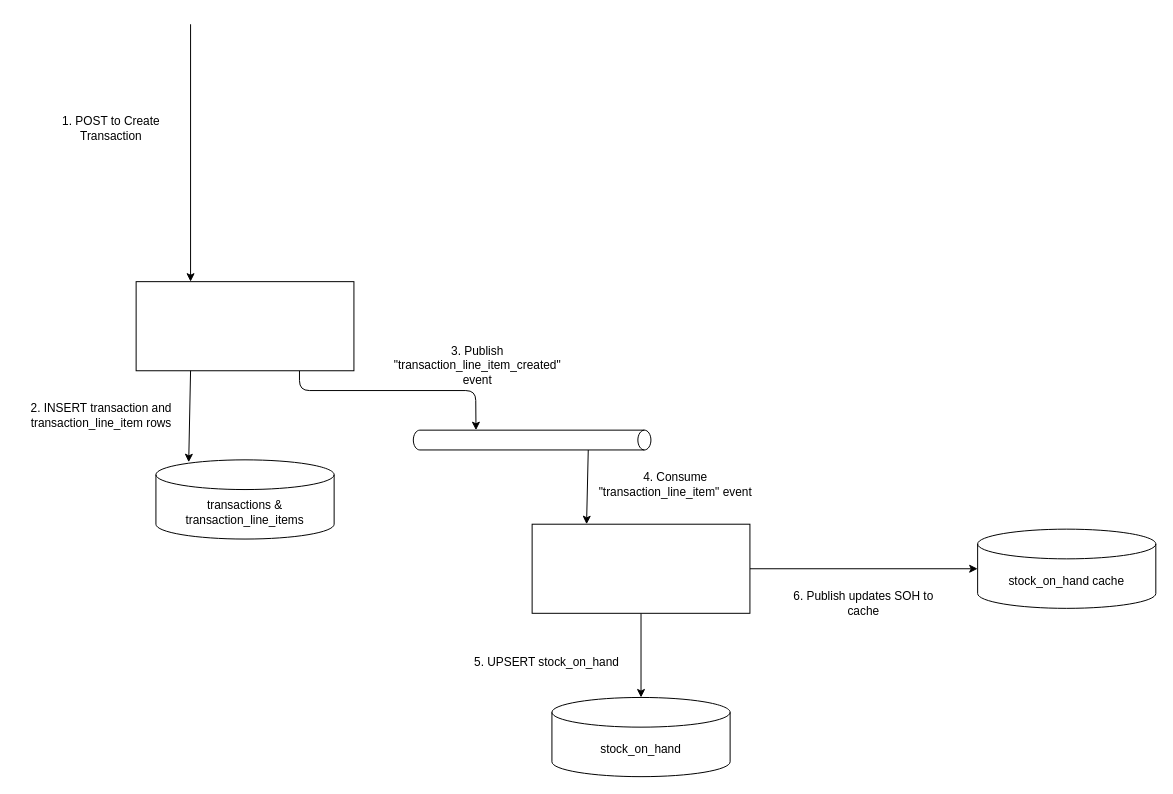
Some shapes in this 1173 by 794 pixel diagram are drawn without their labels. The box of each missing label's shape, as (x1, y1, x2, y2) in pixels:
Stock: (135, 281, 354, 371)
StockOnHand: (531, 523, 750, 613)
